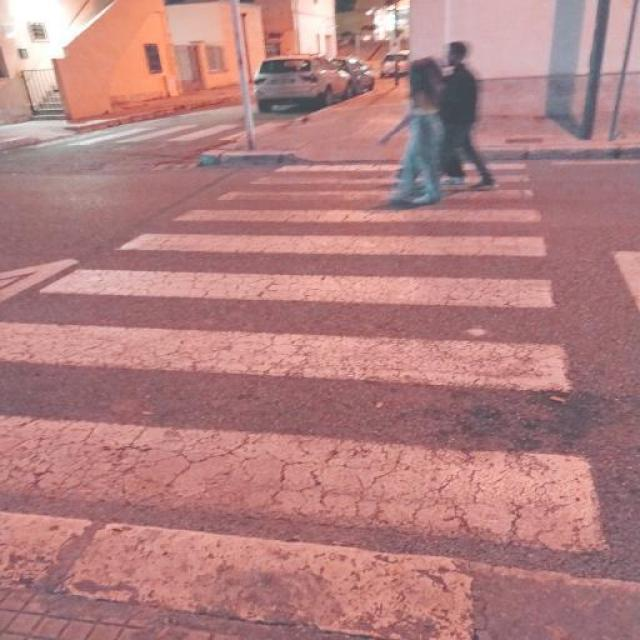crosswalk: (0, 159, 620, 639)
